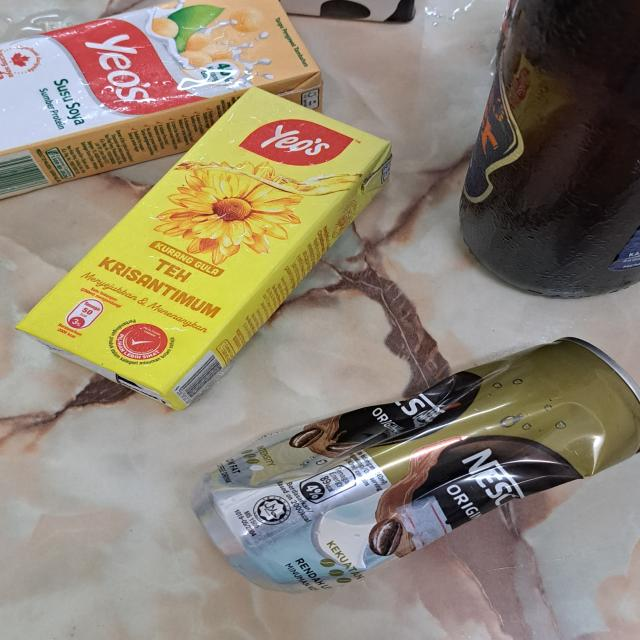can: (192, 337, 640, 593)
drink carton: (19, 86, 396, 413), (0, 0, 326, 200)
glass bottle: (463, 0, 640, 301)
